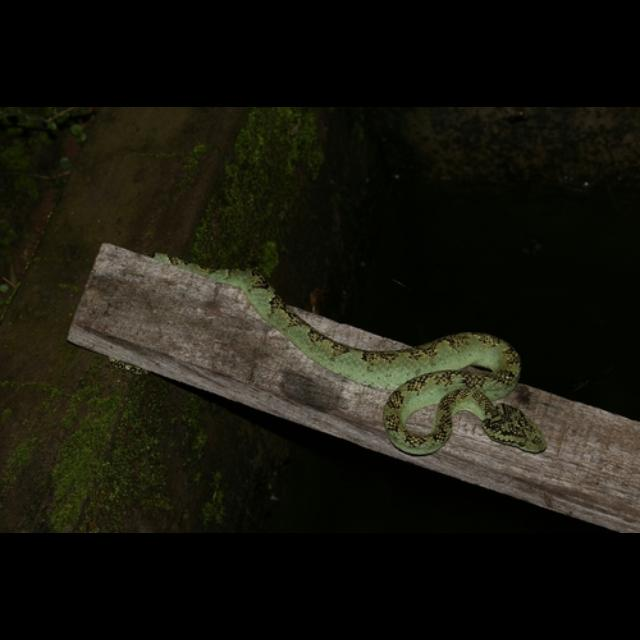snake: (150, 243, 554, 464)
